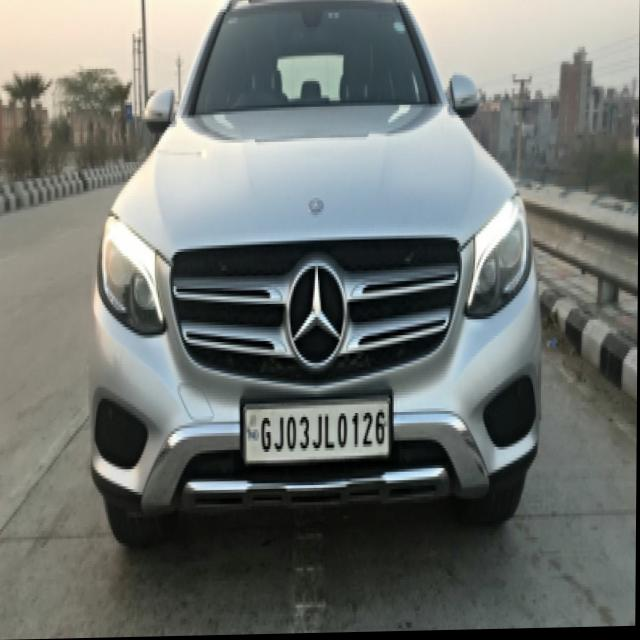licence: (239, 403, 391, 468)
